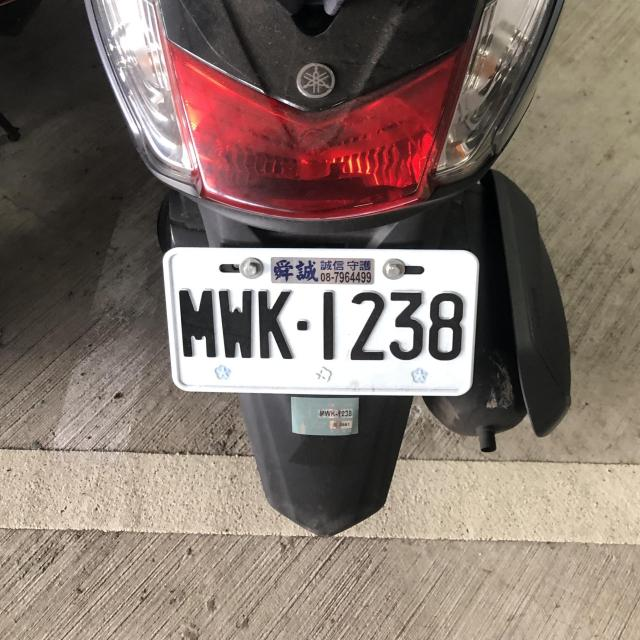W: (158, 240, 478, 398)
